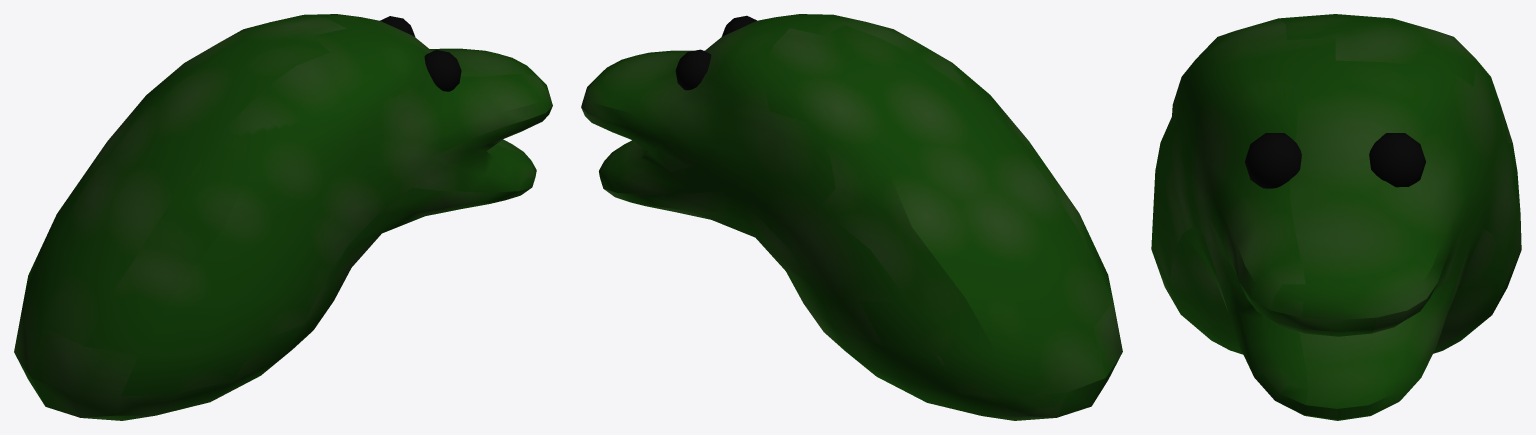
File: mainhead.fbx
The picture shows the model from 3 angles, left to right: view 1: azimuth 30°, elevation 25°; view 2: azimuth 150°, elevation 25°; view 3: azimuth 270°, elevation 25°; orthographic projection. The views are drawn at different scales.
Visible parts, largest first — view 1: Cube; view 2: Cube; view 3: Cube.
Part boxes in pixels (x1,y1,x2,y2): Cube: [14, 14, 552, 420]; Cube: [581, 14, 1122, 420]; Cube: [1151, 14, 1521, 420].
Size of the model in its own units: 101 by 60.26 by 48.66.
Materials: 2 (1 with a texture image).
